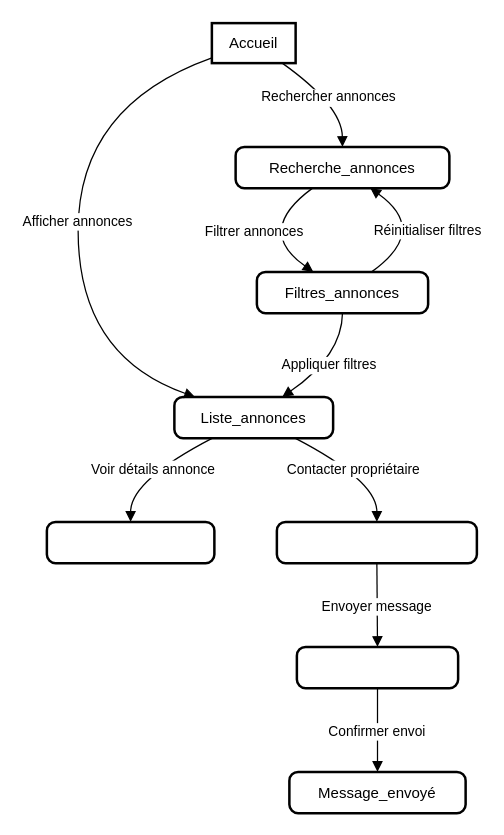
Image size: 504x835. Some labels were removed from this diagram. Here are the shapes that lost their labels. From the top down, the centre of each, then its label:
At (x=130, y=542): "Détails_annonce".
At (x=376, y=542): "Contact_propriétaire".
At (x=377, y=667): "Envoi_message".
